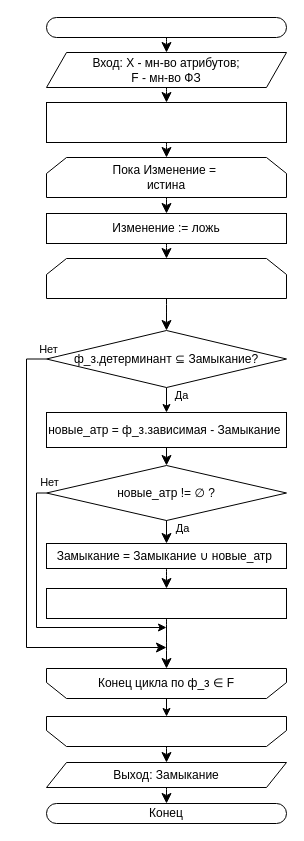
This 304x841 diagram has some shape labels left out. The box of each missing label's shape, as (x1, y1, x2, y2) in pixels:
Для каждой ф_з ∈ F: (46, 258, 286, 298)
Замыкание := X Изменение := ложь: (46, 102, 286, 142)
Изменение := истина: (46, 588, 286, 618)
Конец Пока: (46, 716, 286, 746)
Начало: (46, 16, 286, 38)
